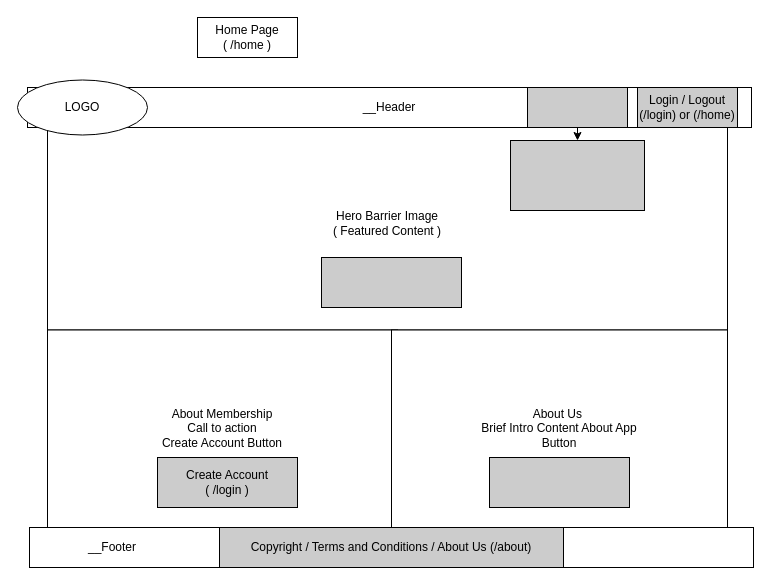
Image size: 771x585. Some labels were removed from this diagram. The shapes that lost their labels are listed below. From the top down, each one's box as (x1, y1, x2, y2) in pixels, then its label:
(526, 86, 628, 128): MENU
(510, 140, 644, 210): Profile (/profile) Dashboard (/dashboard) About Us (/about-us) Accounts (admin)
(320, 256, 462, 308): Login ( /login )
(488, 456, 630, 508): About Us ( /about )
